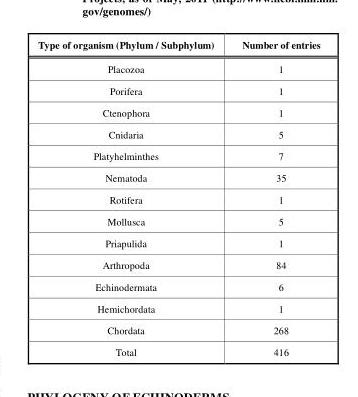table: (37, 37, 319, 357)
table column: (37, 37, 227, 357), (227, 37, 319, 357)
table column header: (37, 37, 319, 56)
table row: (37, 56, 319, 79), (37, 100, 319, 122), (37, 122, 319, 144), (37, 144, 319, 166), (37, 187, 319, 209), (37, 209, 319, 231), (37, 231, 319, 253), (37, 253, 319, 275), (37, 296, 319, 318), (37, 318, 319, 340), (37, 79, 319, 100), (37, 166, 319, 187), (37, 275, 319, 296), (37, 37, 319, 56), (37, 340, 319, 357)
